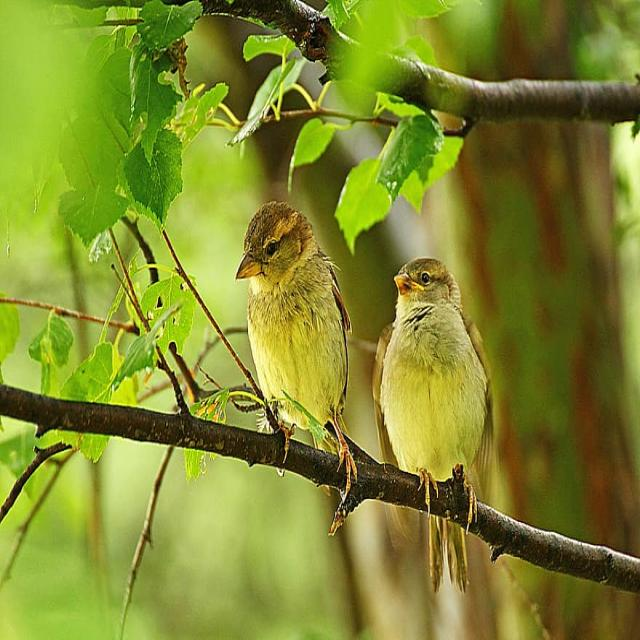brid: (362, 210, 517, 550), (214, 176, 361, 488)
